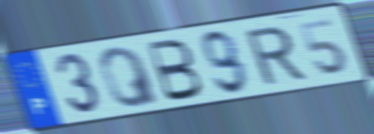3: (52, 49, 103, 119)
5: (295, 17, 349, 77)
9: (202, 28, 252, 96)
B: (145, 37, 206, 104)
Q: (96, 45, 163, 111)
R: (241, 23, 309, 88)
